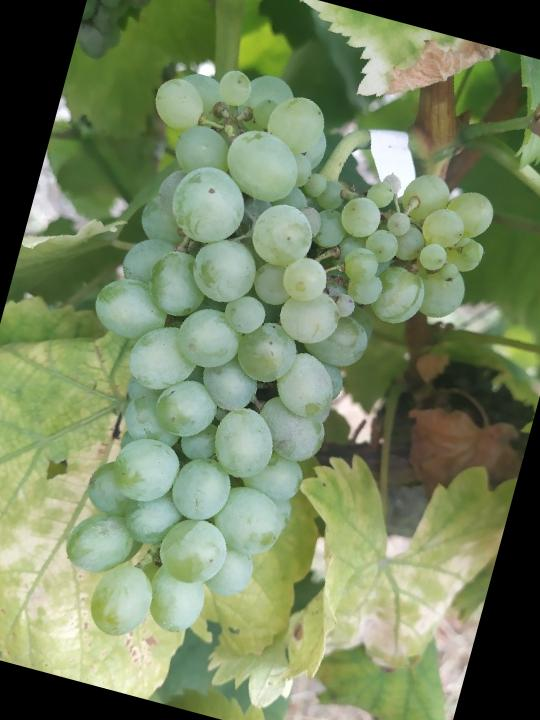grape: (9, 42, 518, 708)
